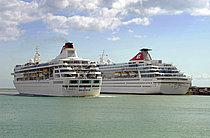Ship: (10, 37, 107, 101), (88, 46, 198, 100)
